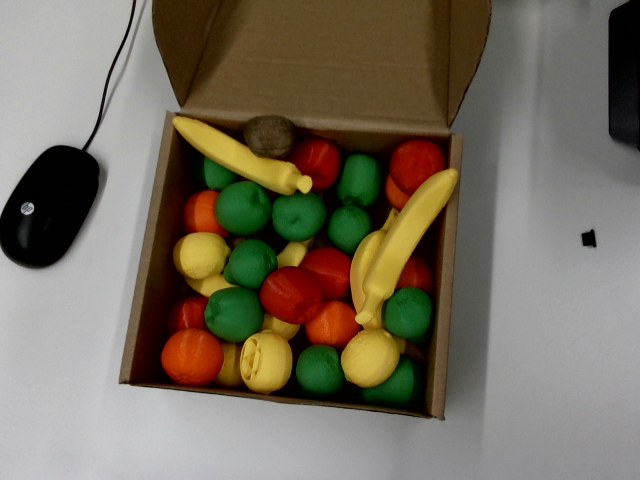banana: (356, 169, 459, 325), (163, 110, 316, 204), (335, 200, 399, 312), (184, 273, 236, 296), (274, 239, 311, 267)
green apple: (358, 348, 437, 427), (206, 170, 280, 244), (374, 278, 444, 348), (216, 231, 284, 299), (320, 197, 378, 255), (205, 287, 263, 341), (333, 152, 385, 210), (271, 191, 327, 243), (294, 343, 345, 397), (185, 153, 241, 202)
lemon: (333, 321, 406, 393), (166, 222, 236, 286), (240, 330, 292, 393), (214, 340, 248, 388), (258, 312, 300, 342)
orange: (153, 319, 230, 395), (298, 291, 367, 360), (177, 187, 229, 246), (396, 254, 440, 296), (375, 174, 412, 212)
red apple: (252, 255, 331, 332), (295, 234, 366, 308), (378, 126, 450, 197), (284, 127, 352, 196), (396, 256, 436, 293), (169, 296, 207, 334)
walnut: (244, 115, 295, 157)
